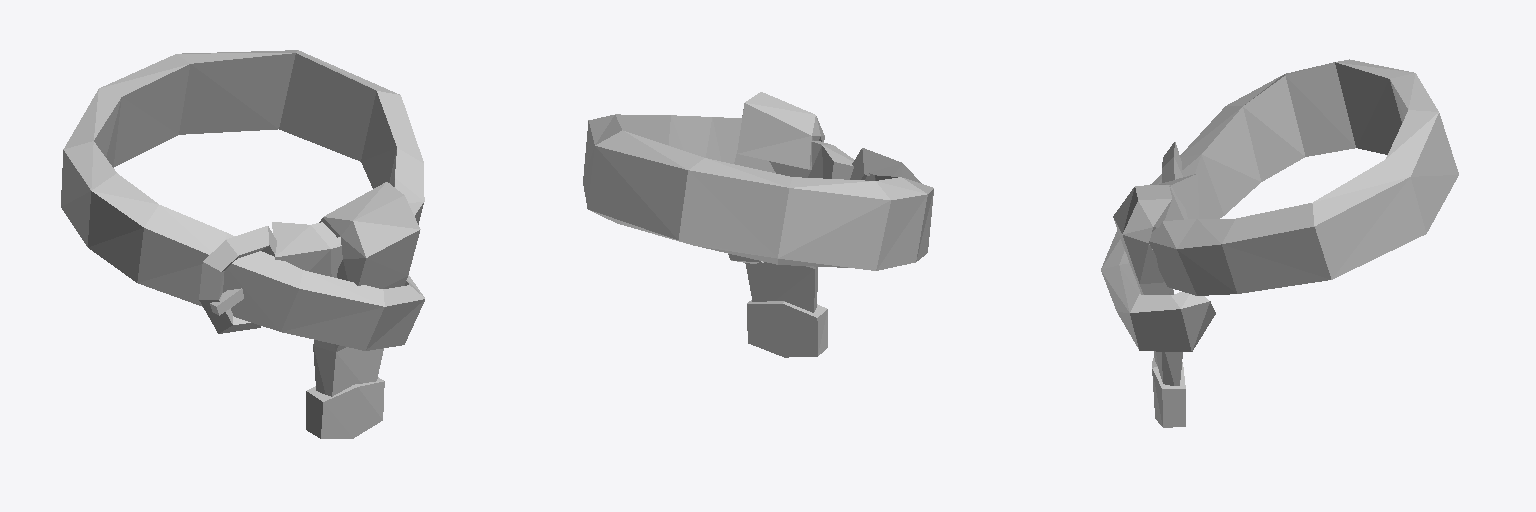
The model's file is axe_belt.obj.
3 renders of one model, left to right at view 1: azimuth 30°, elevation 25°; view 2: azimuth 150°, elevation 25°; view 3: azimuth 270°, elevation 25°, orthographic.
Parts seen in each view (by area): view 1: <SMD_root>; view 2: <SMD_root>; view 3: <SMD_root>.
Part boxes in pixels (bbox=[...]): <SMD_root>: bbox=[61, 50, 424, 438]; <SMD_root>: bbox=[583, 92, 933, 357]; <SMD_root>: bbox=[1101, 59, 1458, 427].
Size of the model in its own units: 51.83 by 44.39 by 49.6.